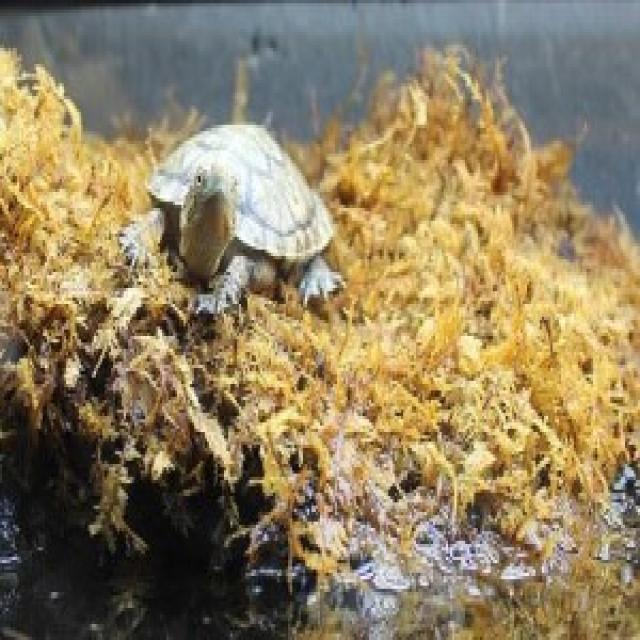Sea turtle: (120, 107, 378, 361)
